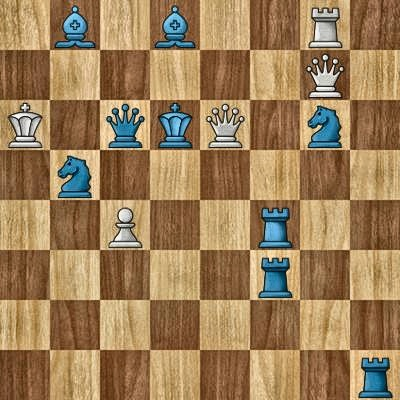black-bishop: (50, 0, 100, 50), (150, 0, 200, 50)
black-king: (150, 100, 200, 150)
black-knight: (300, 100, 350, 150), (50, 150, 100, 200)
black-queen: (100, 100, 150, 150)
black-rook: (250, 200, 300, 250), (250, 250, 300, 300), (350, 350, 400, 400)
white-king: (0, 100, 50, 150)
white-pawn: (100, 200, 150, 250)
white-queen: (300, 50, 350, 100), (200, 100, 250, 150)
white-rook: (300, 0, 350, 50)
